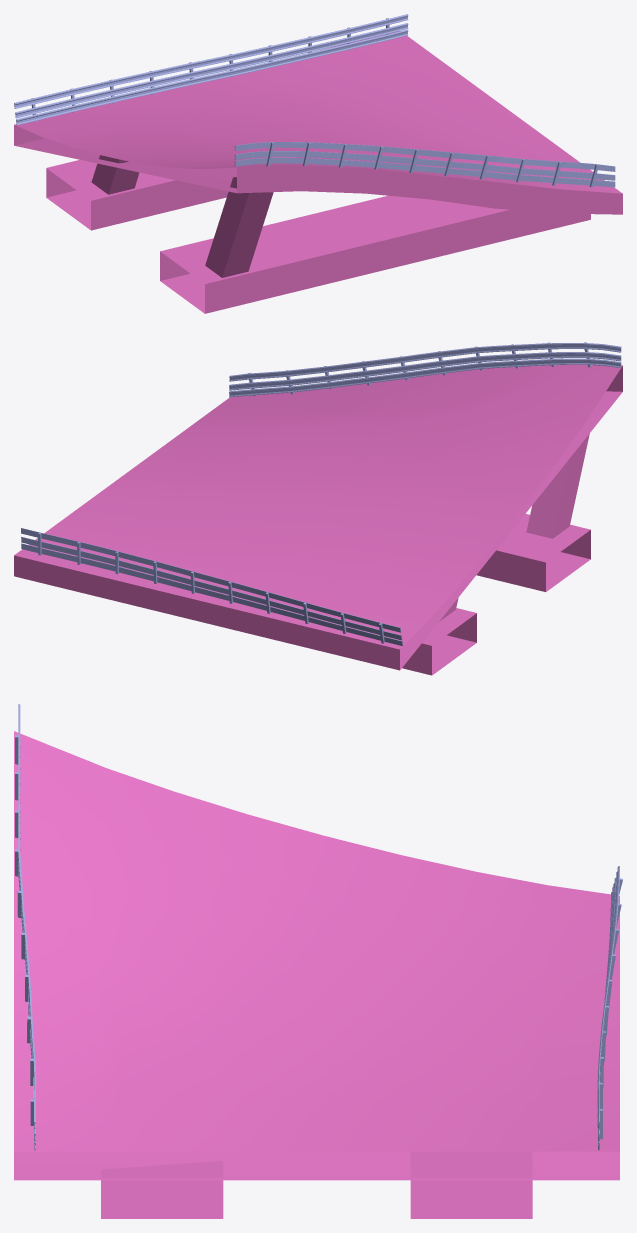
The model's file is RoadBankedStart.fbx.
3 views of the same model, one above another, from view 1: azimuth 30°, elevation 25°; view 2: azimuth 150°, elevation 25°; view 3: azimuth 270°, elevation 25° (orthographic). The views are drawn at different scales.
Parts seen in each view (by area): view 1: RoadBankedStart, RailingBankedStart; view 2: RoadBankedStart, RailingBankedStart; view 3: RoadBankedStart, RailingBankedStart.
Part boxes in pixels (x1,y1,x2,y2): RoadBankedStart: (14, 31, 622, 313); RailingBankedStart: (14, 14, 615, 187); RoadBankedStart: (14, 364, 622, 675); RailingBankedStart: (21, 342, 621, 645); RoadBankedStart: (14, 731, 619, 1218); RailingBankedStart: (15, 704, 622, 1150).
Size of the model in its own units: 2002 by 943 by 2010.
